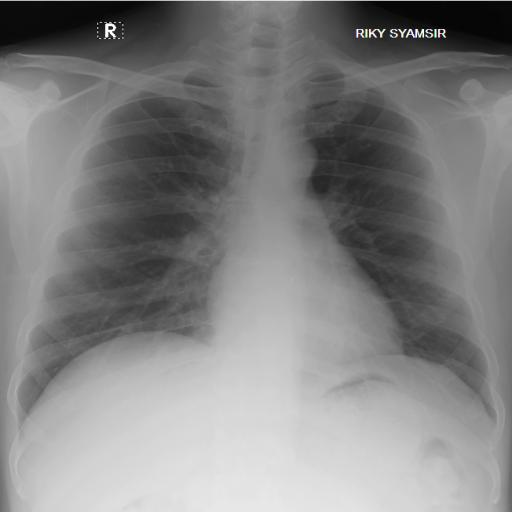normal: (4, 44, 504, 441)
